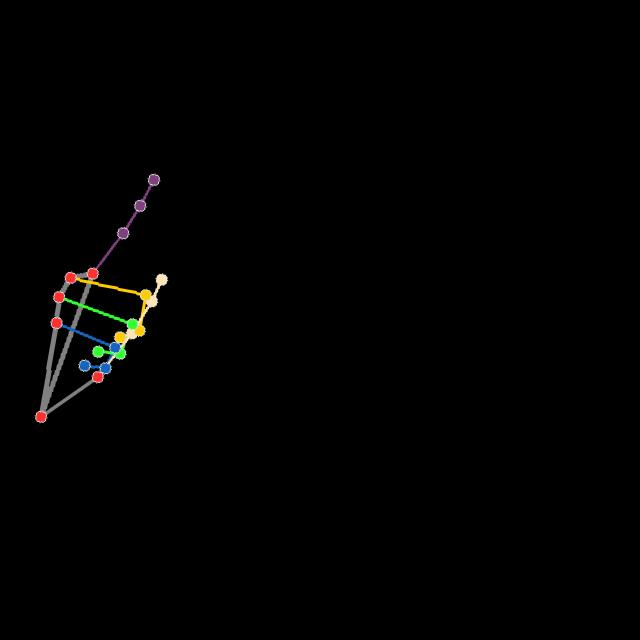gun: (32, 172, 172, 424)
